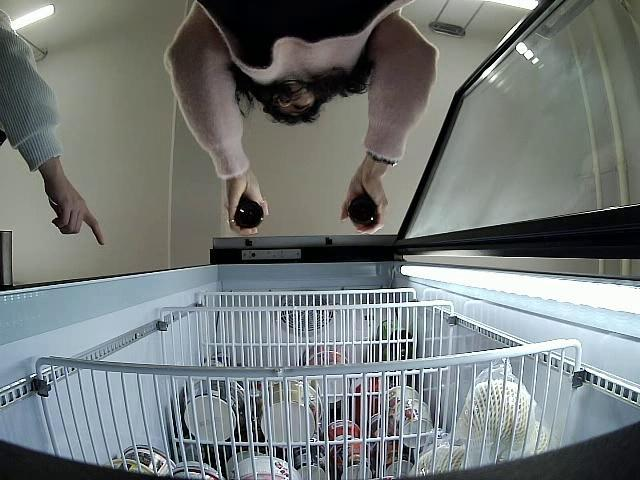17_vita500: (348, 192, 380, 228), (235, 196, 262, 228)
